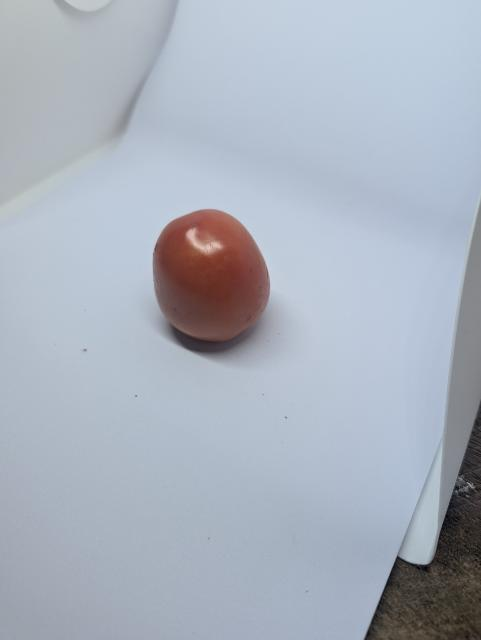red: (133, 201, 289, 361)
